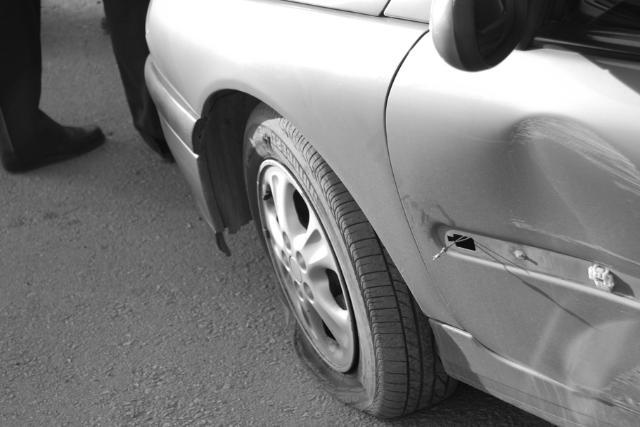Door: (438, 83, 640, 403)
